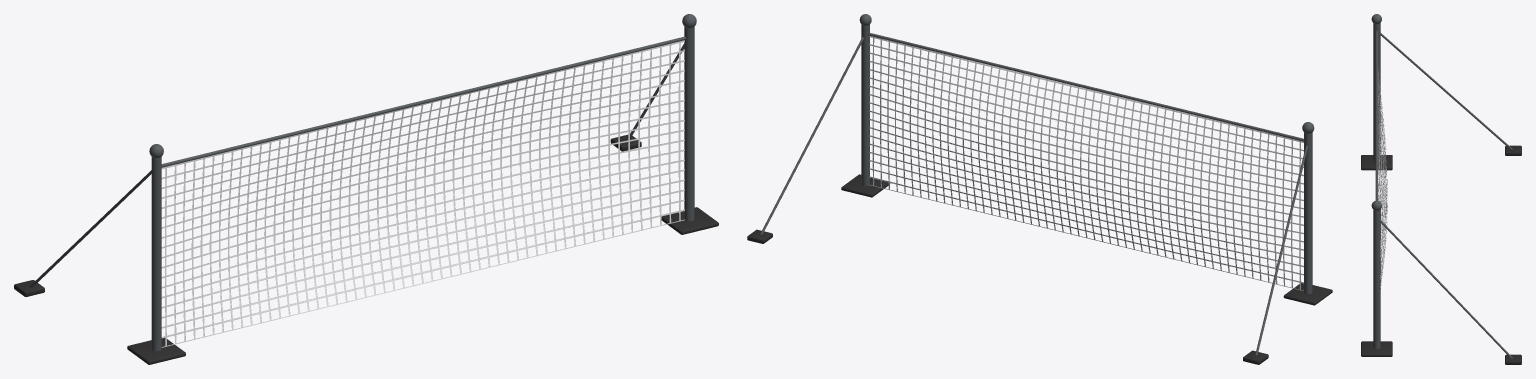
File: StopNet.fbx
3 renders of one model, left to right at view 1: azimuth 30°, elevation 25°; view 2: azimuth 150°, elevation 25°; view 3: azimuth 270°, elevation 25°, orthographic. The views are drawn at different scales.
Parts seen in each view (by area): view 1: StopNet; view 2: StopNet; view 3: StopNet.
Part boxes in pixels (x1,y1,x2,y2): StopNet: (14,14,718,364); StopNet: (747,14,1332,364); StopNet: (1361,14,1521,364).
Size of the model in its own units: 4.86 by 1.57 by 1.53.
3 materials, 1 textured.
